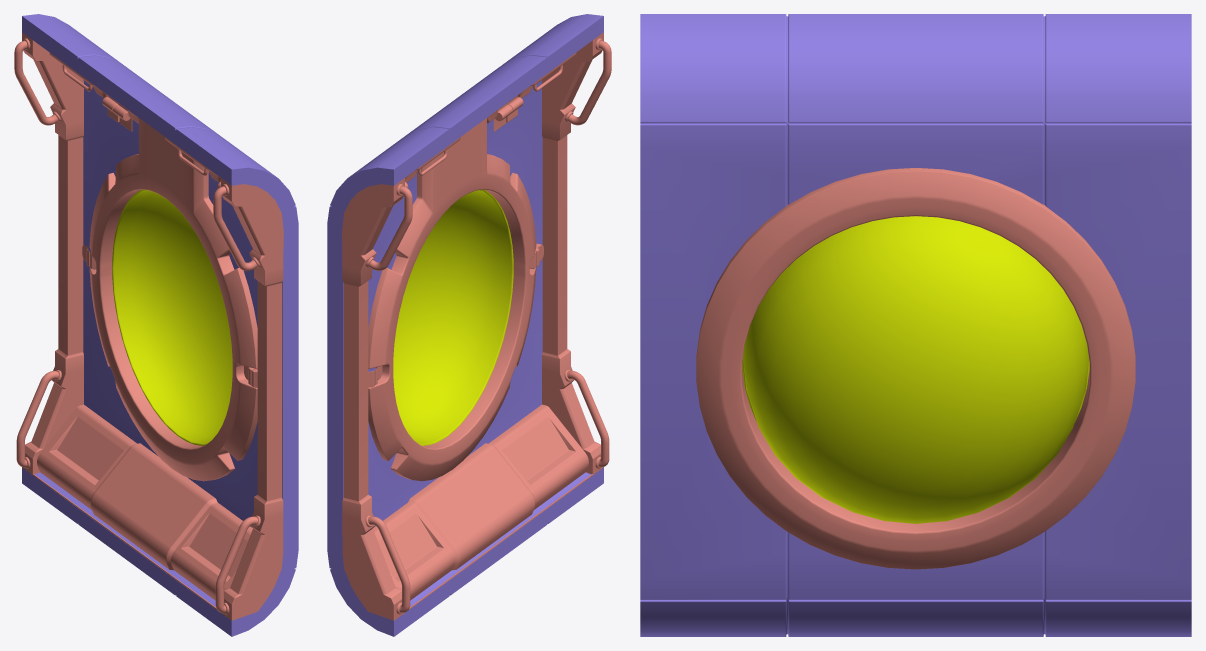
The model's file is Wall01.fbx.
The picture shows the model from 3 angles, left to right: view 1: azimuth 30°, elevation 25°; view 2: azimuth 150°, elevation 25°; view 3: azimuth 270°, elevation 25°; orthographic projection. The views are drawn at different scales.
Visible parts, largest first — view 1: SM_Wall01; view 2: SM_Wall01; view 3: SM_Wall01.
Boxes of the visible parts, bbox=[...] form: SM_Wall01: bbox=[14, 14, 298, 636]; SM_Wall01: bbox=[327, 14, 611, 636]; SM_Wall01: bbox=[640, 14, 1191, 636].
Bounding box in the file's own units: 1.41 × 4.3 × 3.5.
